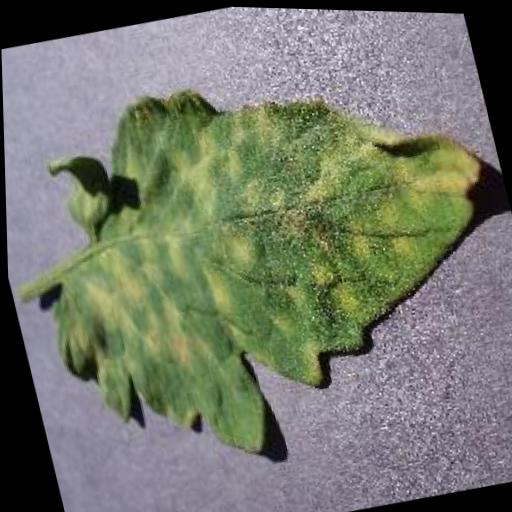Leaf Mold: (1, 25, 512, 494)
